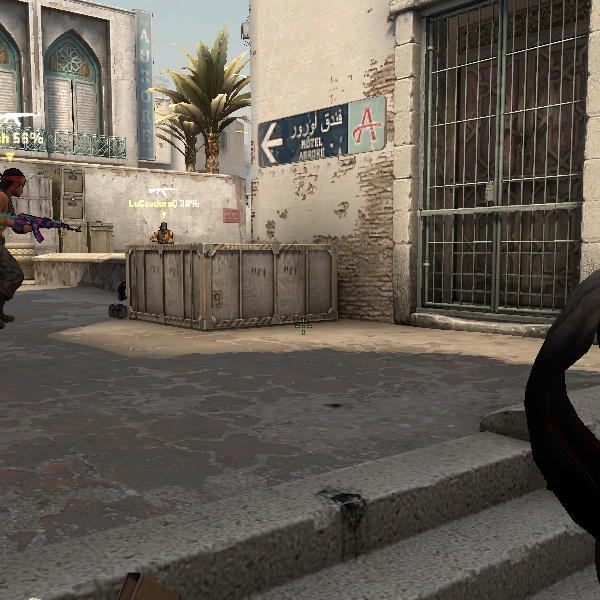t_body: (1, 168, 54, 329), (150, 220, 176, 244)
t_head: (1, 167, 26, 204), (159, 221, 168, 234)
